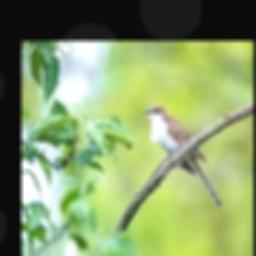Cuckoo: (143, 104, 223, 209)
